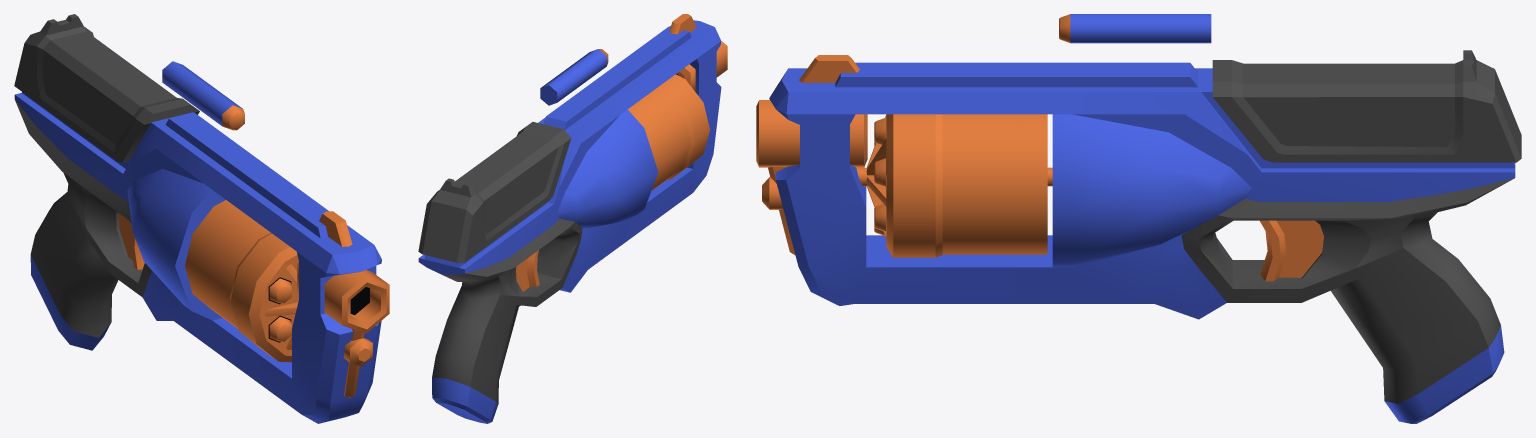
Rendered from Narf.fbx.
3 views of the same model, side by side, from view 1: azimuth 30°, elevation 25°; view 2: azimuth 150°, elevation 25°; view 3: azimuth 270°, elevation 25° (orthographic). The views are drawn at different scales.
Visible parts, largest first — view 1: Cube, Cube.001, Circle, Circle.001, Circle.003, Circle.002; view 2: Cube, Cube.001, Circle, Circle.003, Circle.001; view 3: Cube, Cube.001, Circle, Circle.001, Circle.003, Circle.002.
Part boxes in pixels (x1=…): Cube: x1=14, y1=92, x2=381, y2=423; Cube.001: x1=14, y1=14, x2=199, y2=162; Circle: x1=185, y1=200, x2=298, y2=362; Circle.001: x1=297, y1=211, x2=389, y2=397; Circle.003: x1=162, y1=61, x2=244, y2=130; Circle.002: x1=268, y1=277, x2=291, y2=342; Cube: x1=418, y1=20, x2=721, y2=423; Cube.001: x1=418, y1=122, x2=571, y2=262; Circle: x1=628, y1=74, x2=709, y2=190; Circle.003: x1=540, y1=49, x2=608, y2=105; Circle.001: x1=669, y1=14, x2=727, y2=91; Cube: x1=769, y1=62, x2=1515, y2=423; Cube.001: x1=1212, y1=50, x2=1521, y2=162; Circle: x1=856, y1=114, x2=1052, y2=257; Circle.001: x1=756, y1=55, x2=867, y2=255; Circle.003: x1=1059, y1=14, x2=1211, y2=43; Circle.002: x1=874, y1=117, x2=885, y2=235.
Bounding box in the file's own units: 108 × 275 × 467.
